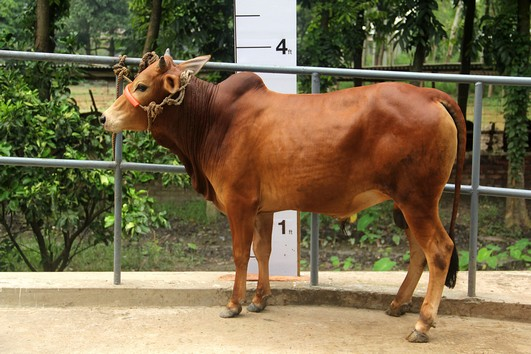cow: (93, 45, 472, 346)
